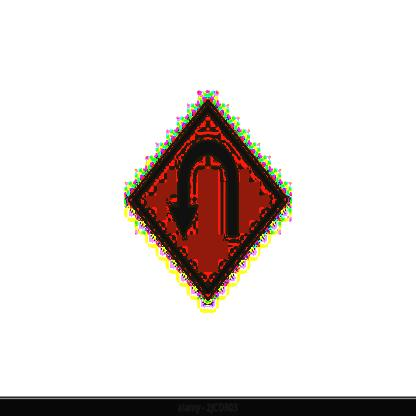U-turn: (124, 102, 292, 298)
